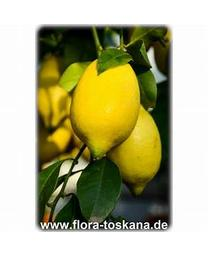lemon: (69, 57, 140, 161), (110, 102, 162, 194)
